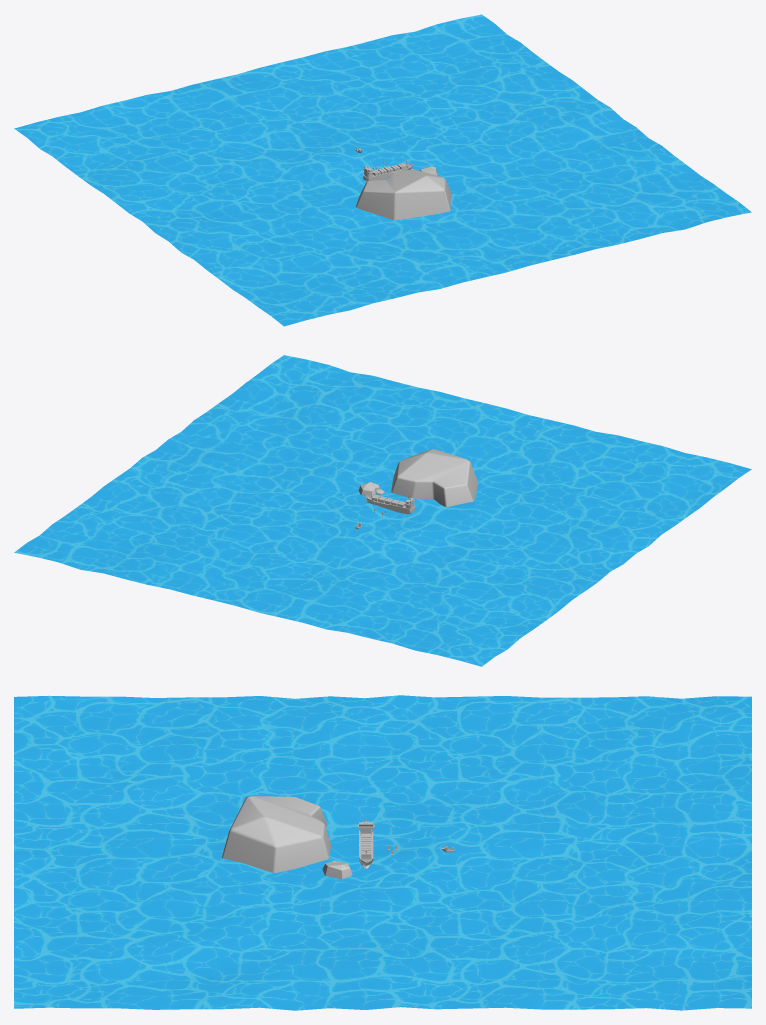
Rendered from changjing7_1.fbx.
3 renders of one model, top to bottom at view 1: azimuth 30°, elevation 25°; view 2: azimuth 150°, elevation 25°; view 3: azimuth 270°, elevation 25°, orthographic. The views are drawn at different scales.
Parts seen in each view (by area): view 1: changjing_7_1; view 2: changjing_7_1, DaHuoLun1; view 3: changjing_7_1, DaHuoLun1.
Part boxes in pixels (x1,y1,x2,y2): changjing_7_1: [14, 14, 751, 326]; changjing_7_1: [14, 355, 751, 666]; DaHuoLun1: [365, 491, 414, 514]; changjing_7_1: [14, 695, 751, 1010]; DaHuoLun1: [357, 817, 374, 868].
Bounding box in the file's own units: 50226 × 3911 × 50226.
